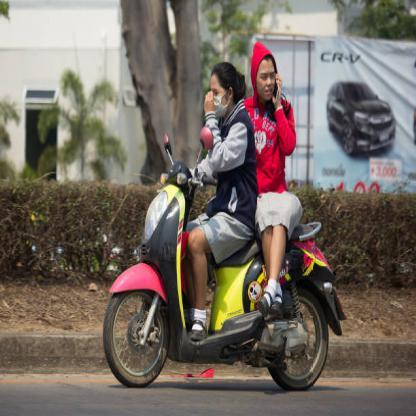Motorcycle: (101, 135, 340, 392)
